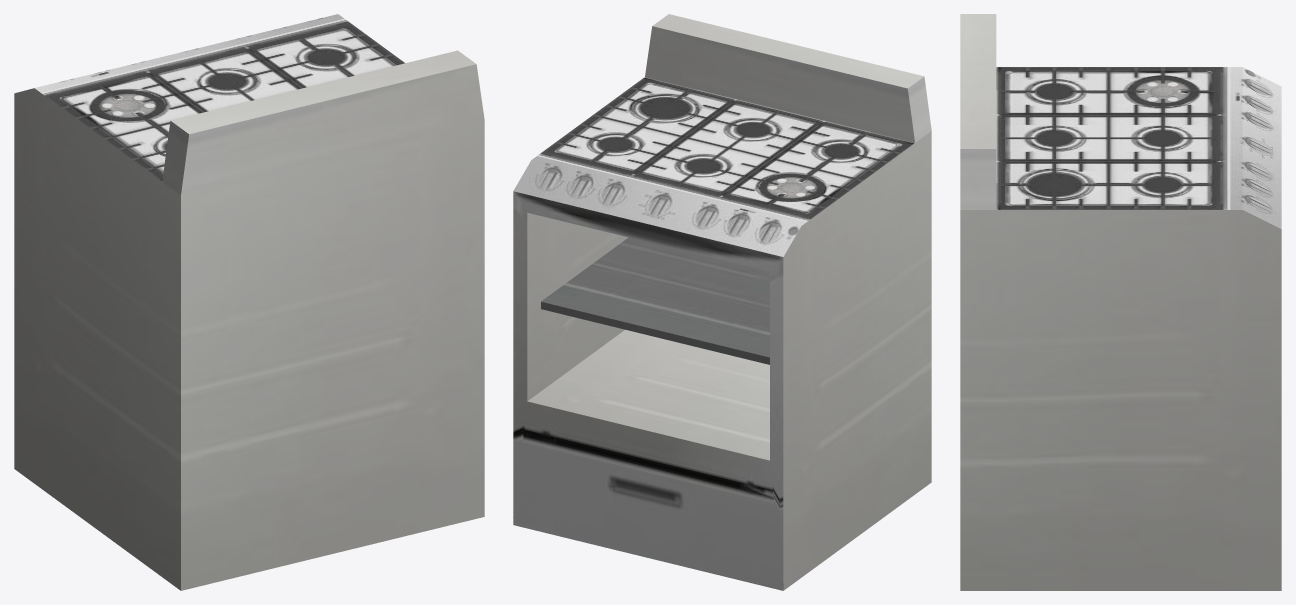
The model's file is Stove_01.glb.
3 renders of one model, left to right at view 1: azimuth 30°, elevation 25°; view 2: azimuth 150°, elevation 25°; view 3: azimuth 270°, elevation 25°, orthographic. The views are drawn at different scales.
Visible parts, largest first — view 1: Stove_01; view 2: Stove_01; view 3: Stove_01.
Boxes of the visible parts, x1,y1,x2,y2 form: Stove_01: (14, 14, 484, 590); Stove_01: (513, 14, 931, 590); Stove_01: (960, 14, 1281, 590).
Bounding box in the file's own units: 0.9088 × 1.3 × 0.8643.
Materials: 1 (1 with a texture image).
